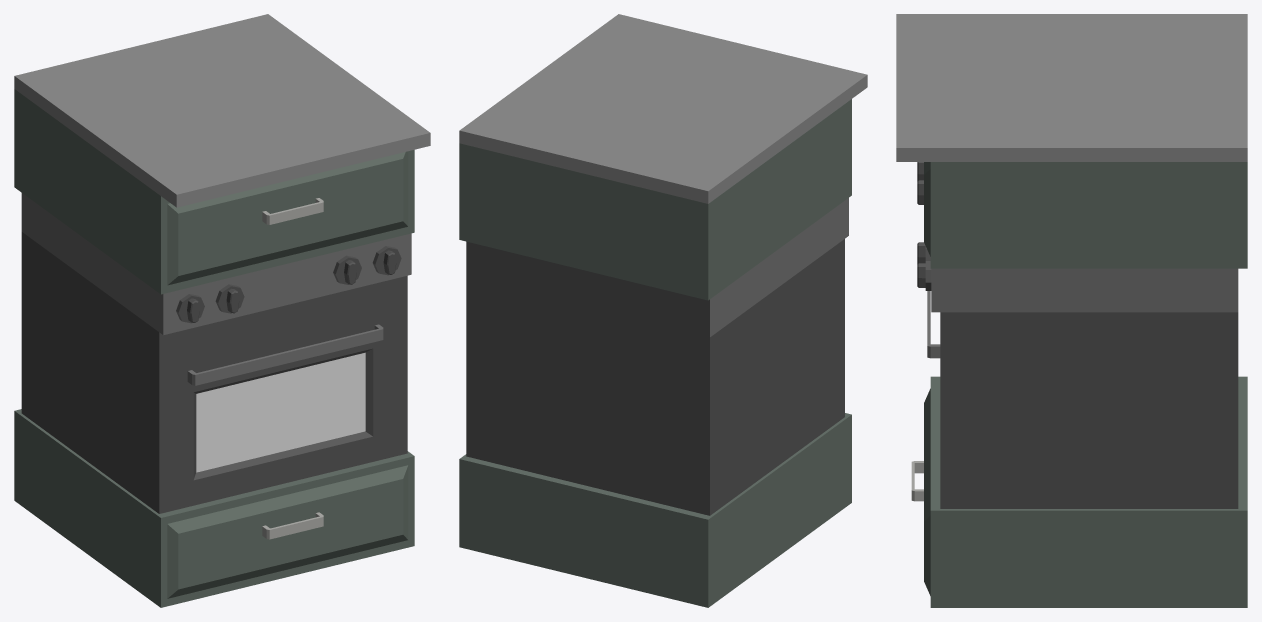
File: home_kitchen_oven.fbx
3 renders of one model, left to right at view 1: azimuth 30°, elevation 25°; view 2: azimuth 150°, elevation 25°; view 3: azimuth 270°, elevation 25°, orthographic. The views are drawn at different scales.
Parts seen in each view (by area): view 1: home_kitchen_oven_LOD0; view 2: home_kitchen_oven_LOD0; view 3: home_kitchen_oven_LOD0.
Boxes of the visible parts, box(x1,y1,x2,y2) form: home_kitchen_oven_LOD0: box(14, 14, 430, 607); home_kitchen_oven_LOD0: box(459, 14, 867, 607); home_kitchen_oven_LOD0: box(896, 14, 1247, 607).
Size of what is drawn, in the model's own units: 0.5938 by 0.95 by 0.6582.
